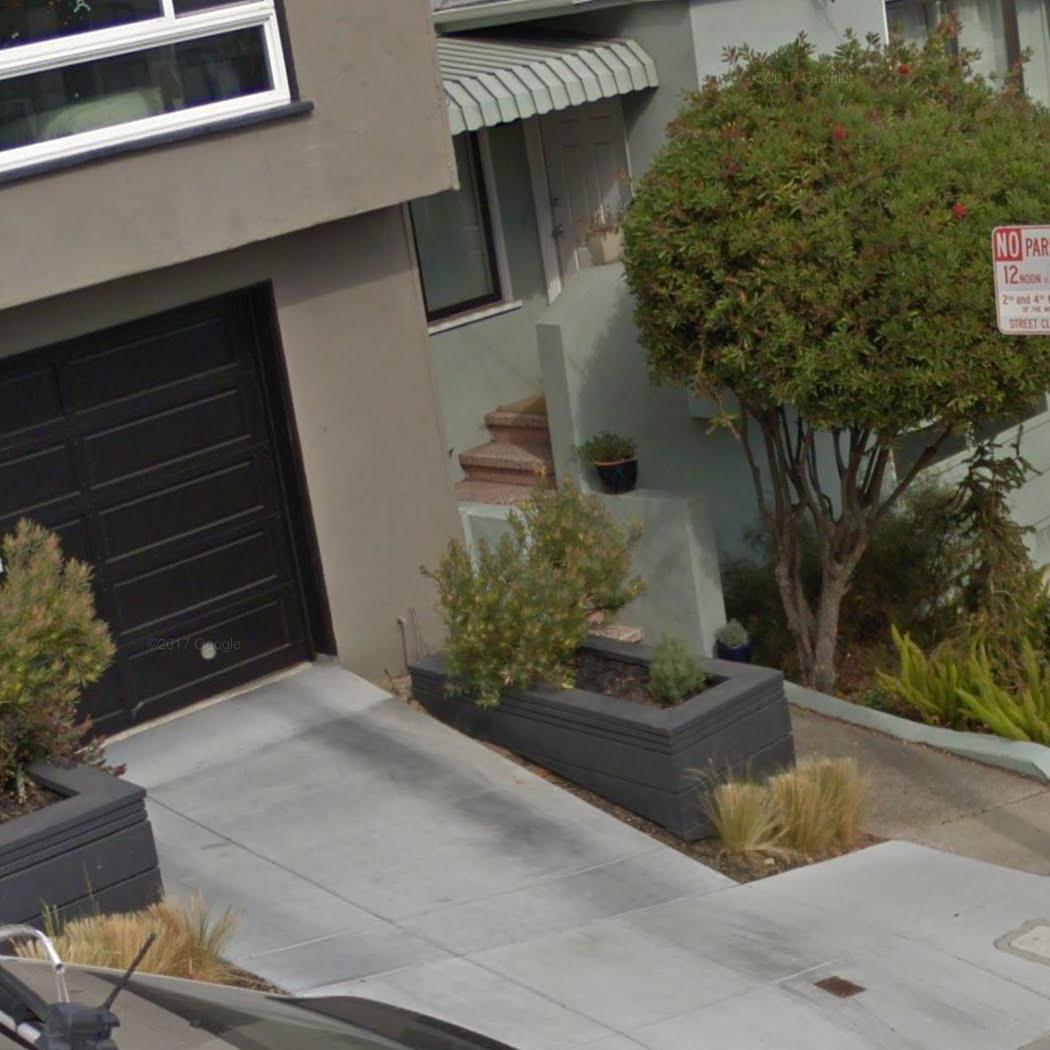No Parking: (988, 222, 1049, 337)
